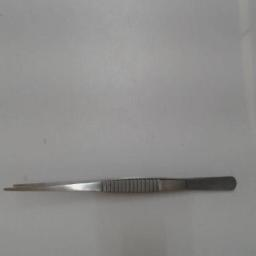DeBakey Dissector: (6, 168, 246, 210)
